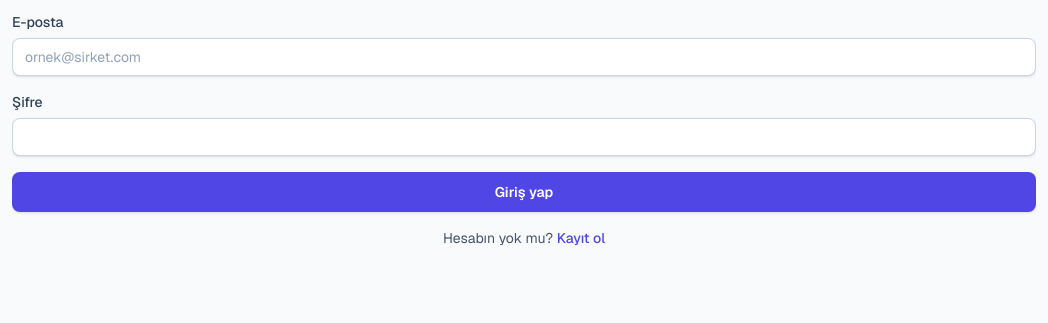
LoginForm › generic hata mesajı erişilebilir alert alanında görünür
Type "a@b.com" into the field labelled "E-posta" at x=524, y=57, box [12, 38, 1036, 76]
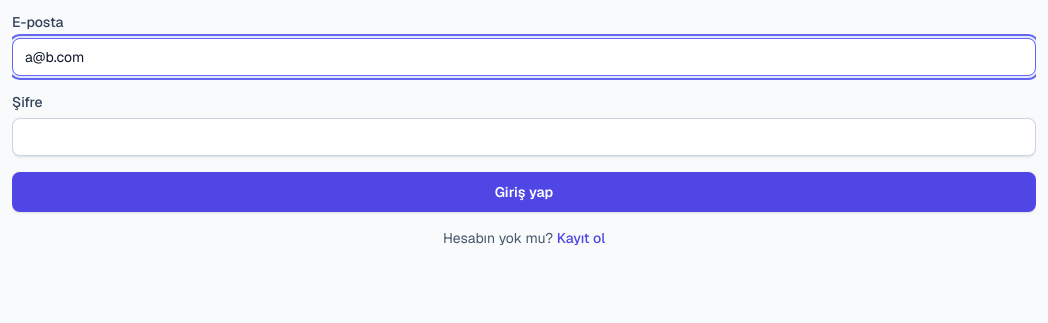
Type "yanlis-sifre" into the password field labelled "Şifre" at x=524, y=137, box [12, 118, 1036, 156]
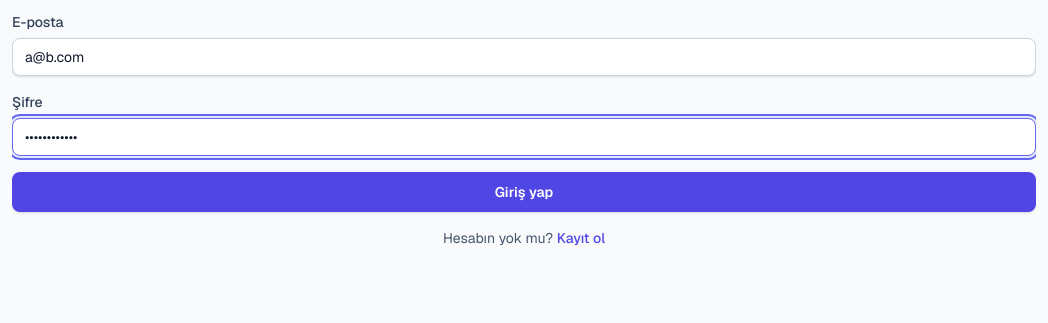
Click the button "Giriş yap" at x=524, y=192, box [12, 172, 1036, 212]
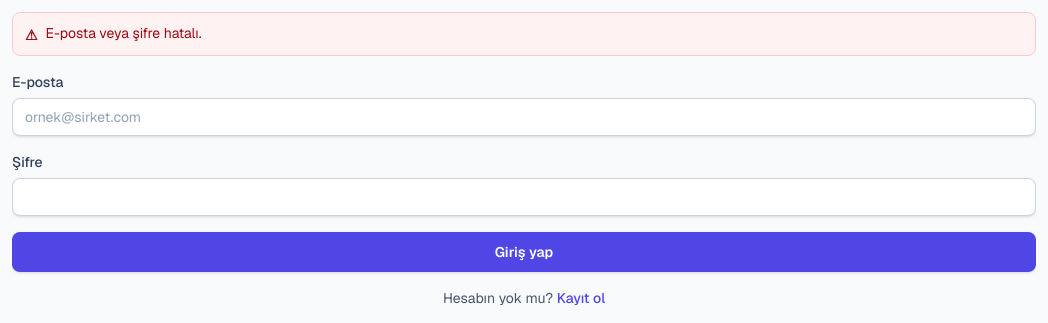
Expected: the message shows "E-posta veya şifre hatalı.", [46, 24, 202, 42]
